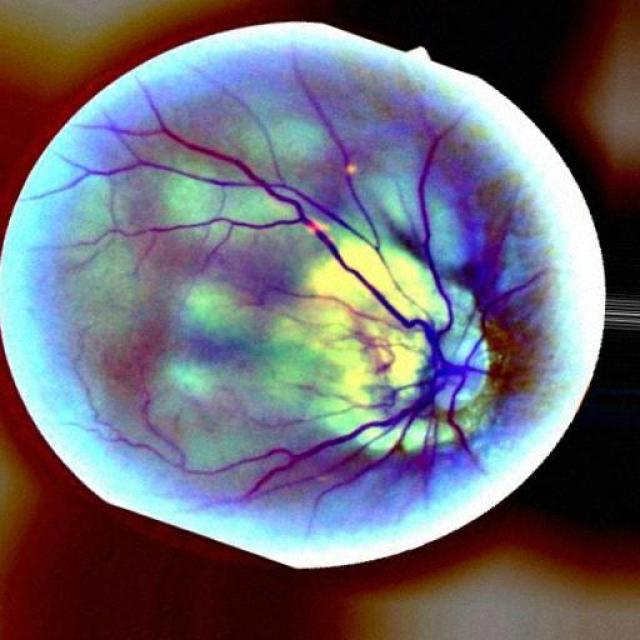Macula: (165, 323, 247, 368)
Nerves: (118, 185, 437, 349), (138, 354, 446, 493), (414, 109, 469, 333)
Optic Disk: (373, 282, 490, 419)
